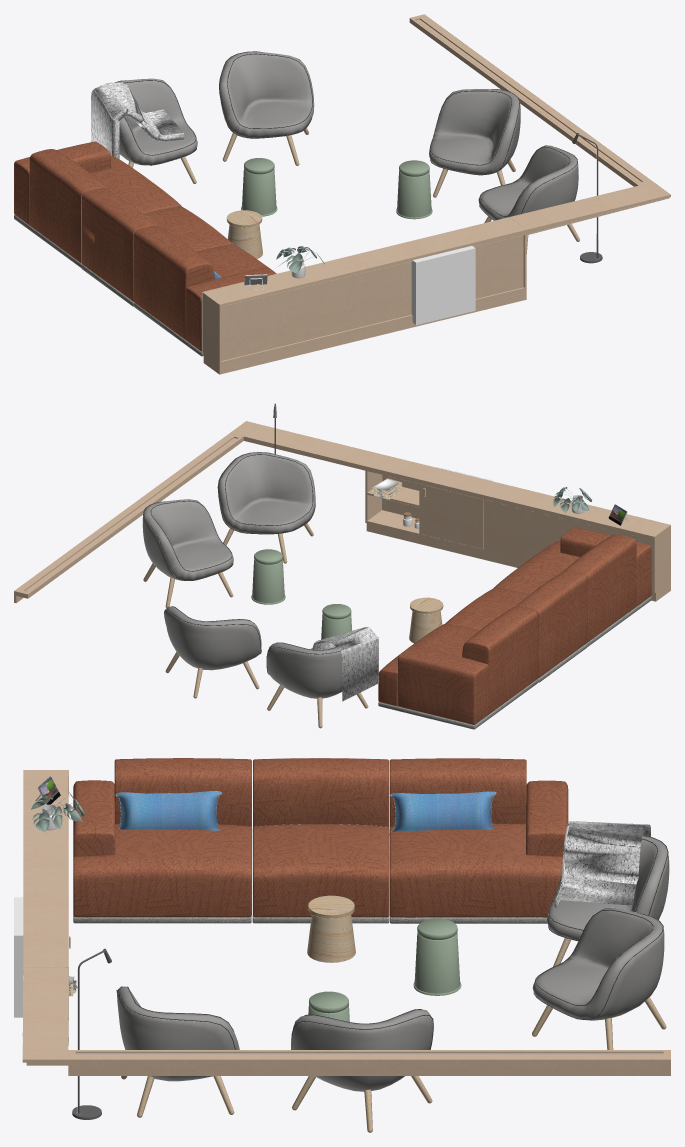
The model's file is break-room(static)_ver-5.glb.
3 views of the same model, one above another, from view 1: azimuth 30°, elevation 25°; view 2: azimuth 150°, elevation 25°; view 3: azimuth 270°, elevation 25° (orthographic). The views are drawn at different scales.
Visible parts, largest first — view 1: desk, sofa, chair.002, chair.001, chair, chair.003, shelf, block, pouffe.002, pouffe.001, pouffe, Mesh87 Group80 Group79 Group15 Williams_Credenza___880_3_1 G (+1 smaller); view 2: sofa, desk, chair.003, chair.001, chair, chair.002, shelf, small_door, pouffe.002, pouffe, pouffe.001, Mesh87 Group80 Group79 Group15 Williams_Credenza___880_3_1 G; view 3: sofa, shelf, desk, chair.002, chair.001, chair, chair.003, pillow, pillow.001, pouffe.001, pouffe, block (+3 smaller).
Boxes of the visible parts, left/top/right/bottom form: desk: left=202, top=182, right=670, bottom=374; sofa: left=14, top=141, right=276, bottom=356; chair.002: left=219, top=51, right=314, bottom=165; chair.001: left=91, top=78, right=197, bottom=183; chair: left=429, top=89, right=520, bottom=197; chair.003: left=478, top=145, right=579, bottom=253; shelf: left=409, top=14, right=652, bottom=186; block: left=411, top=246, right=475, bottom=324; pouffe.002: left=396, top=160, right=432, bottom=219; pouffe.001: left=241, top=158, right=277, bottom=216; pouffe: left=226, top=210, right=262, bottom=259; Mesh87 Group80 Group79 Group15 Williams_Credenza___880_3_1 G: left=276, top=246, right=324, bottom=278; sofa: left=378, top=527, right=651, bottom=729; desk: left=230, top=421, right=670, bottom=601; chair.003: left=217, top=452, right=315, bottom=563; chair.001: left=266, top=627, right=378, bottom=728; chair: left=142, top=499, right=233, bottom=607; chair.002: left=164, top=606, right=261, bottom=698; shelf: left=14, top=433, right=243, bottom=603; small_door: left=421, top=484, right=483, bottom=549; pouffe.002: left=251, top=549, right=285, bottom=604; pouffe: left=409, top=597, right=443, bottom=643; pouffe.001: left=321, top=604, right=351, bottom=639; Mesh87 Group80 Group79 Group15 Williams_Credenza___880_3_1 G: left=553, top=487, right=591, bottom=513; sofa: left=73, top=758, right=568, bottom=923; shelf: left=68, top=1050, right=670, bottom=1075; desk: left=22, top=770, right=68, bottom=1065; chair.002: left=532, top=907, right=666, bottom=1049; chair.001: left=547, top=821, right=669, bottom=966; chair: left=291, top=1009, right=433, bottom=1132; chair.003: left=116, top=986, right=239, bottom=1117; pillow: left=389, top=791, right=496, bottom=834; pillow.001: left=115, top=791, right=221, bottom=830; pouffe.001: left=413, top=918, right=461, bottom=995; pouffe: left=307, top=895, right=355, bottom=962; block: left=14, top=897, right=23, bottom=1017.
Size of the model in its own units: 182 by 47.6 by 174.
22 materials, 10 textured.
